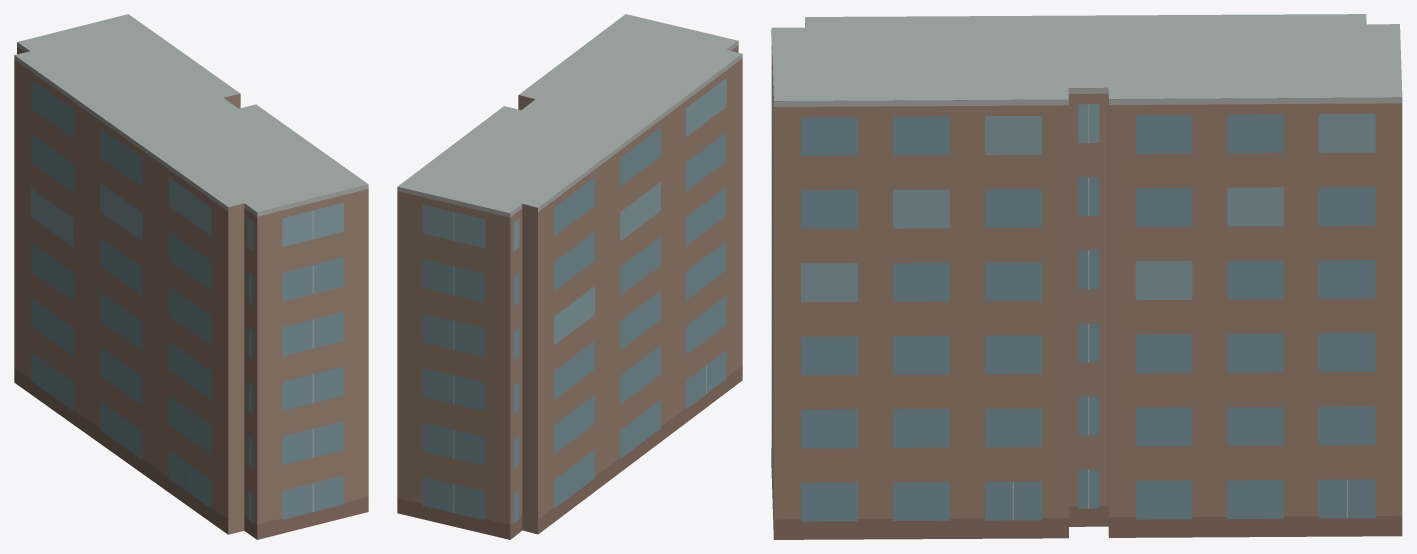
The model's file is survey-upis-32633712.glb.
3 renders of one model, left to right at view 1: azimuth 30°, elevation 25°; view 2: azimuth 150°, elevation 25°; view 3: azimuth 270°, elevation 25°, orthographic. The views are drawn at different scales.
Visible parts, largest first — view 1: survey-upis-32633712.tmp; view 2: survey-upis-32633712.tmp; view 3: survey-upis-32633712.tmp.
Boxes of the visible parts, <box> form: survey-upis-32633712.tmp: <box>14,14,368,539</box>; survey-upis-32633712.tmp: <box>397,14,742,539</box>; survey-upis-32633712.tmp: <box>771,14,1402,539</box>.
Size of the model in its own units: 7.67 by 18 by 23.46.
